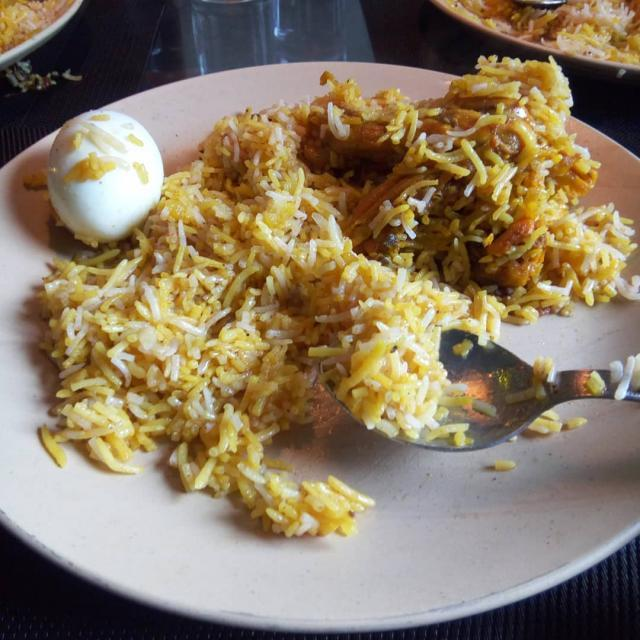biryani: (119, 47, 609, 595)
